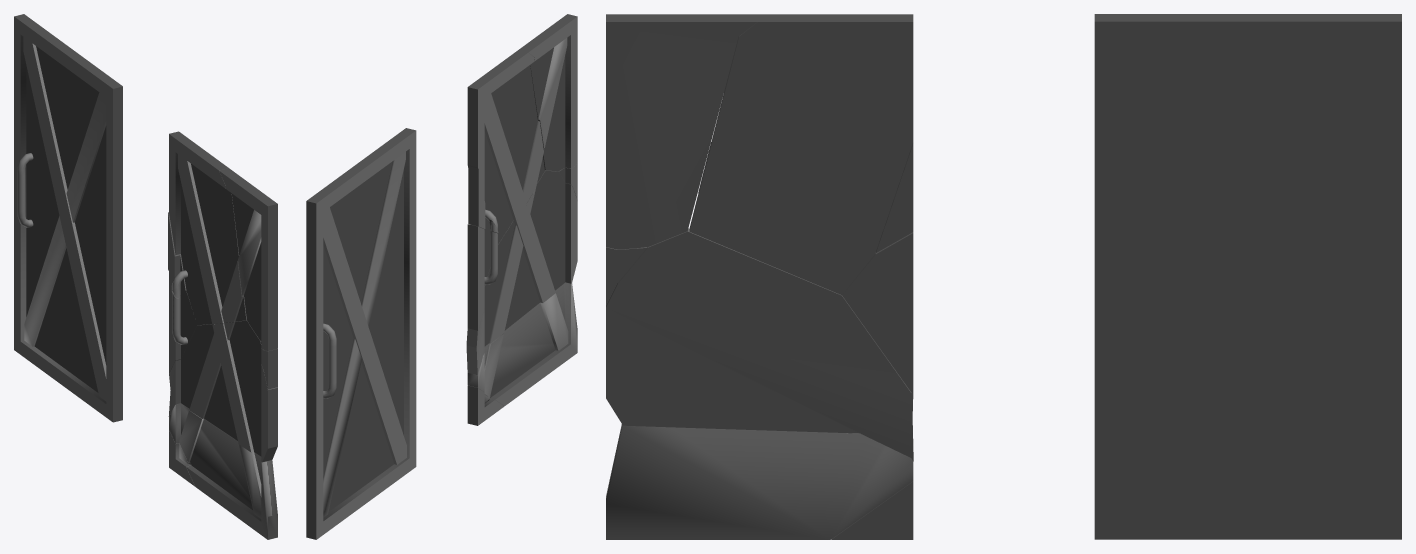
File: MetalDoor.obj
The picture shows the model from 3 angles, left to right: view 1: azimuth 30°, elevation 25°; view 2: azimuth 150°, elevation 25°; view 3: azimuth 270°, elevation 25°; orthographic projection. The views are drawn at different scales.
Parts seen in each view (by area): view 1: Door_placeholder_Scene.002, Door_placeholder.007_Scene.008, Door_placeholder.006_Scene.007, Door_placeholder.008_Scene.009, Door_placeholder.004_Scene.005, Door_placeholder.005_Scene.006, Door_placeholder.010_Scene.011, Door_placeholder.014_Scene.015, Door_placeholder.002_Scene.018; view 2: Door_placeholder_Scene.002, Door_placeholder.006_Scene.007, Door_placeholder.007_Scene.008, Door_placeholder.008_Scene.009, Door_placeholder.004_Scene.005, Door_placeholder.005_Scene.006, Door_placeholder.002_Scene.018, Door_placeholder.010_Scene.011, Door_placeholder.014_Scene.015; view 3: Door_placeholder_Scene.002, Door_placeholder.007_Scene.008, Door_placeholder.006_Scene.007, Door_placeholder.008_Scene.009, Door_placeholder.004_Scene.005, Door_placeholder.005_Scene.006, Door_placeholder.010_Scene.011, Door_placeholder.002_Scene.018, Door_placeholder.014_Scene.015.
Part boxes in pixels (x1,y1,x2,y2): Door_placeholder_Scene.002: [14, 14, 122, 422]; Door_placeholder.007_Scene.008: [169, 131, 246, 325]; Door_placeholder.006_Scene.007: [168, 320, 277, 462]; Door_placeholder.008_Scene.009: [169, 403, 277, 539]; Door_placeholder.004_Scene.005: [219, 168, 277, 350]; Door_placeholder.005_Scene.006: [169, 272, 197, 372]; Door_placeholder.010_Scene.011: [169, 430, 194, 486]; Door_placeholder.014_Scene.015: [260, 340, 277, 389]; Door_placeholder.002_Scene.018: [168, 212, 186, 290]; Door_placeholder_Scene.002: [306, 128, 416, 539]; Door_placeholder.006_Scene.007: [466, 170, 577, 374]; Door_placeholder.007_Scene.008: [467, 50, 544, 244]; Door_placeholder.008_Scene.009: [467, 282, 577, 406]; Door_placeholder.004_Scene.005: [518, 14, 577, 171]; Door_placeholder.005_Scene.006: [467, 224, 497, 330]; Door_placeholder.002_Scene.018: [468, 166, 485, 229]; Door_placeholder.010_Scene.011: [467, 385, 504, 425]; Door_placeholder.014_Scene.015: [558, 163, 577, 200]; Door_placeholder_Scene.002: [1094, 14, 1401, 539]; Door_placeholder.007_Scene.008: [689, 14, 913, 294]; Door_placeholder.006_Scene.007: [606, 228, 913, 461]; Door_placeholder.008_Scene.009: [606, 424, 913, 539]; Door_placeholder.004_Scene.005: [606, 14, 757, 249]; Door_placeholder.005_Scene.006: [842, 232, 913, 392]; Door_placeholder.010_Scene.011: [831, 481, 913, 539]; Door_placeholder.002_Scene.018: [876, 143, 913, 252]; Door_placeholder.014_Scene.015: [606, 247, 647, 305].
Size of the model in its own units: 0.1854 by 2.8 by 3.88.
2 materials, 2 textured.
